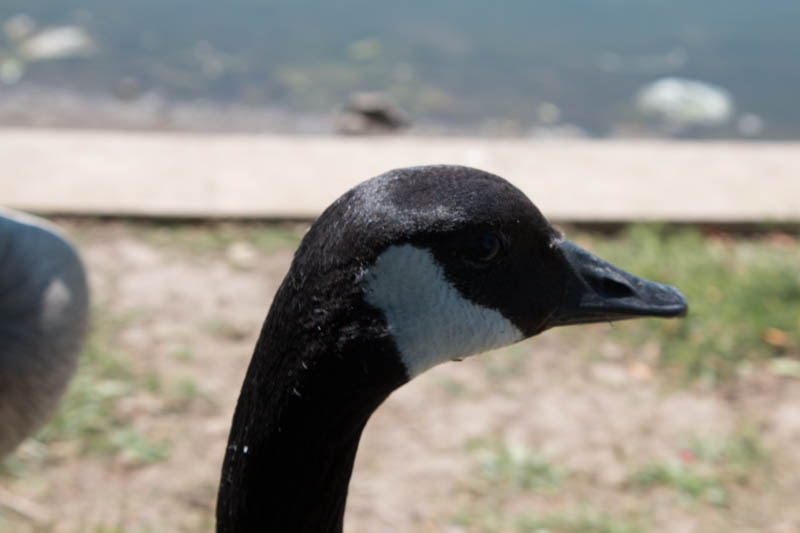goose-head: (245, 167, 690, 397)
